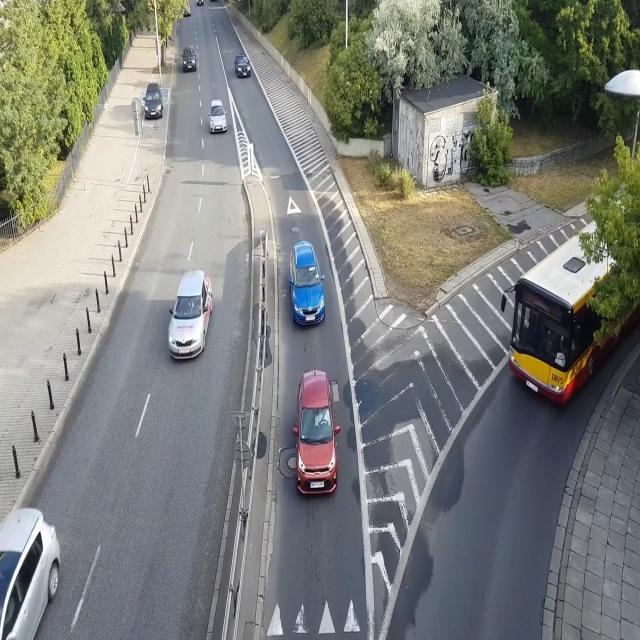bus: (500, 206, 640, 411)
car: (0, 502, 60, 640), (291, 369, 341, 497), (167, 270, 213, 362), (288, 239, 326, 327), (143, 82, 164, 120), (208, 100, 228, 134), (234, 53, 251, 78), (181, 46, 197, 72), (182, 4, 191, 18), (196, 0, 204, 6)
